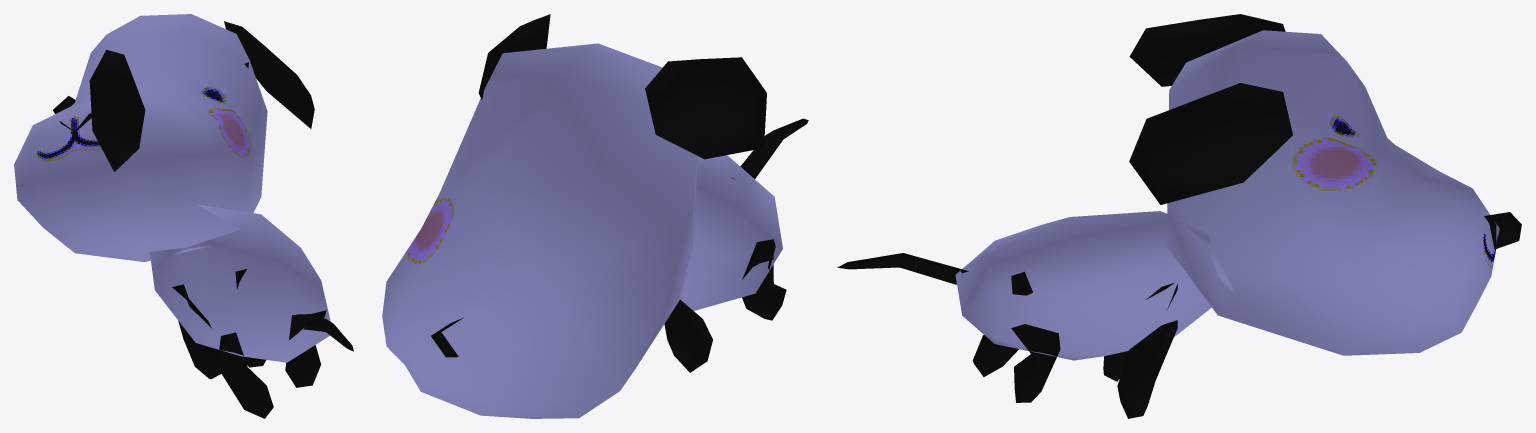
File: ps2_save-icons_gitaroomanone.glb
The picture shows the model from 3 angles, left to right: view 1: azimuth 30°, elevation 25°; view 2: azimuth 150°, elevation 25°; view 3: azimuth 270°, elevation 25°; orthographic projection. The views are drawn at different scales.
Visible parts, largest first — view 1: PUMA_N.ICO; view 2: PUMA_N.ICO; view 3: PUMA_N.ICO.
Part boxes in pixels (x1=…): PUMA_N.ICO: x1=14, y1=14, x2=353, y2=418; PUMA_N.ICO: x1=382, y1=14, x2=808, y2=418; PUMA_N.ICO: x1=837, y1=14, x2=1521, y2=418.
Size of the model in its own units: 1.97 by 2.93 by 5.03.
1 material, 1 textured.
